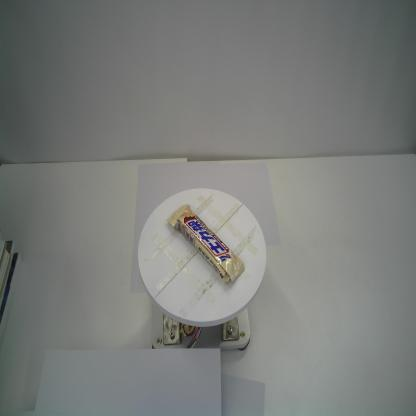Chocolate: (166, 202, 247, 286)
